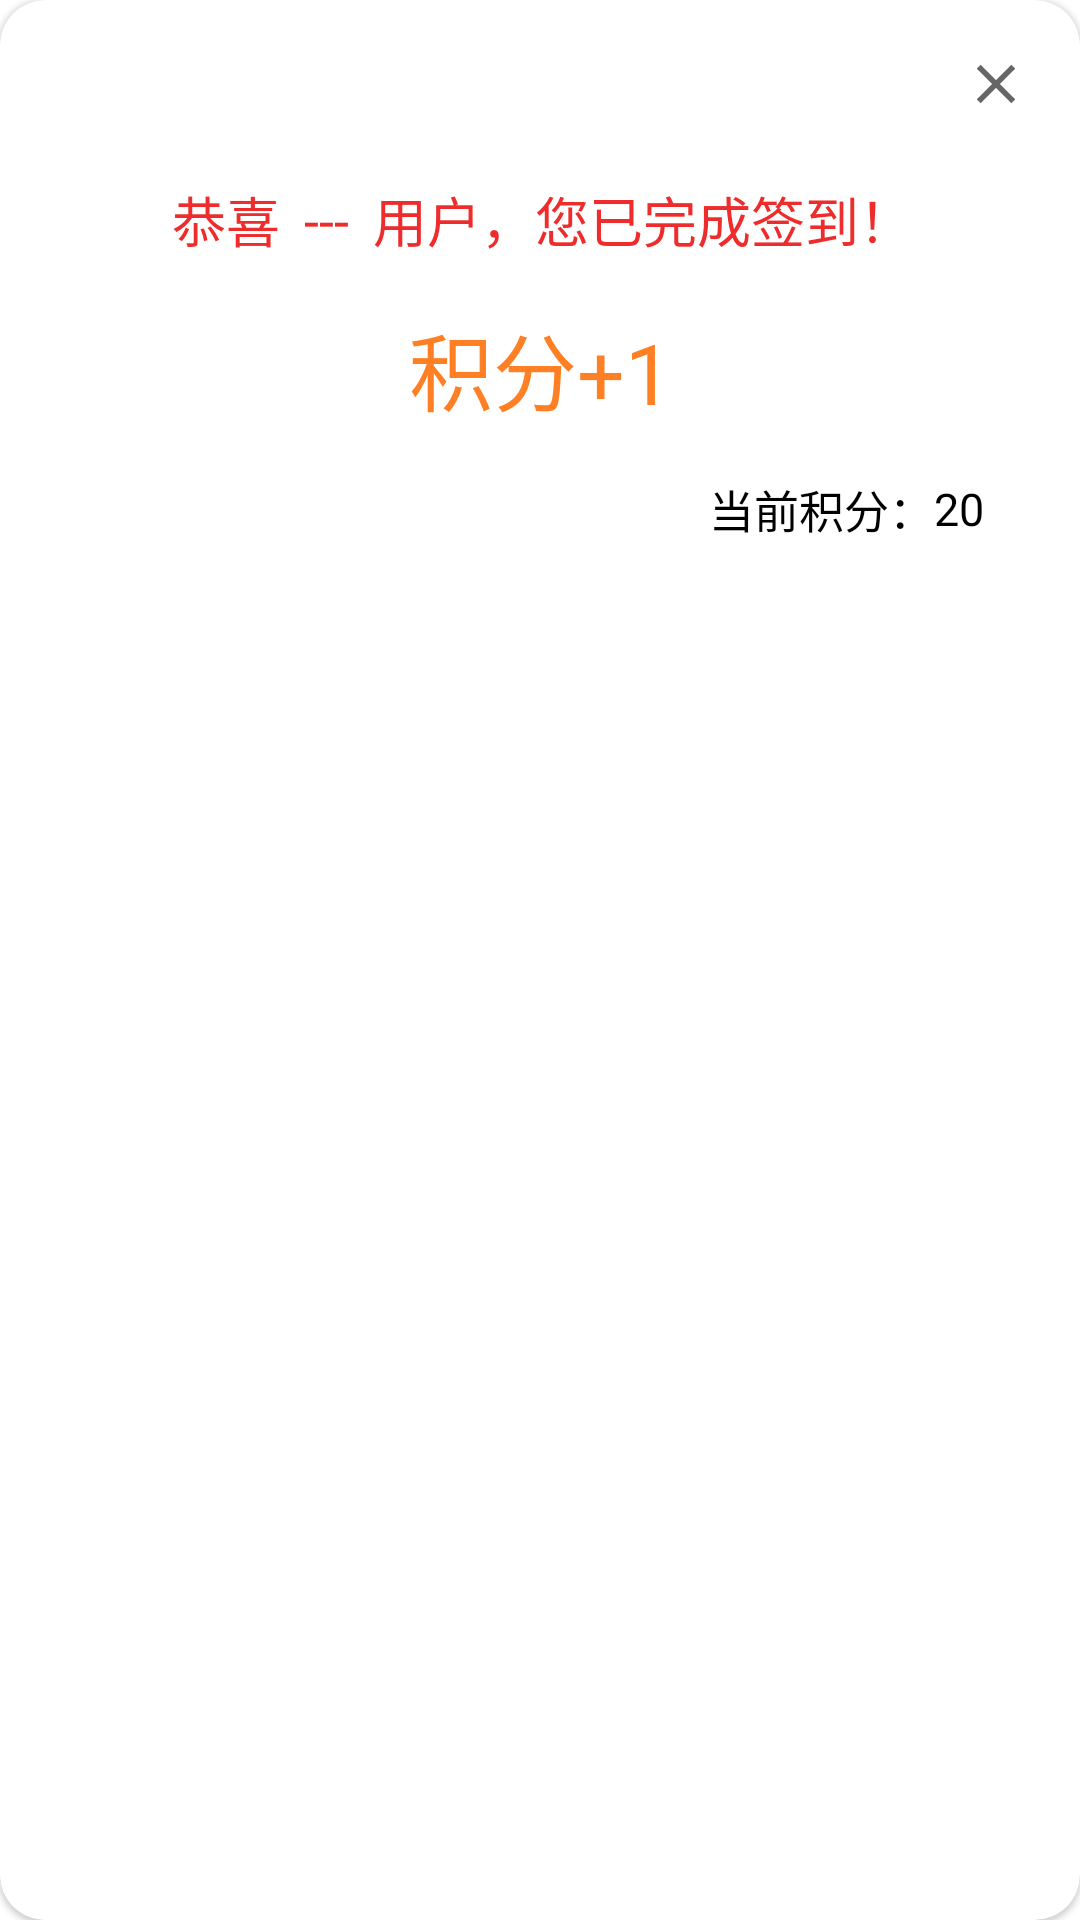

Screen size 1080w x 1920h. Icon name, then its center in pixels as (x=x, y=y):
clear: (x=996, y=84)
